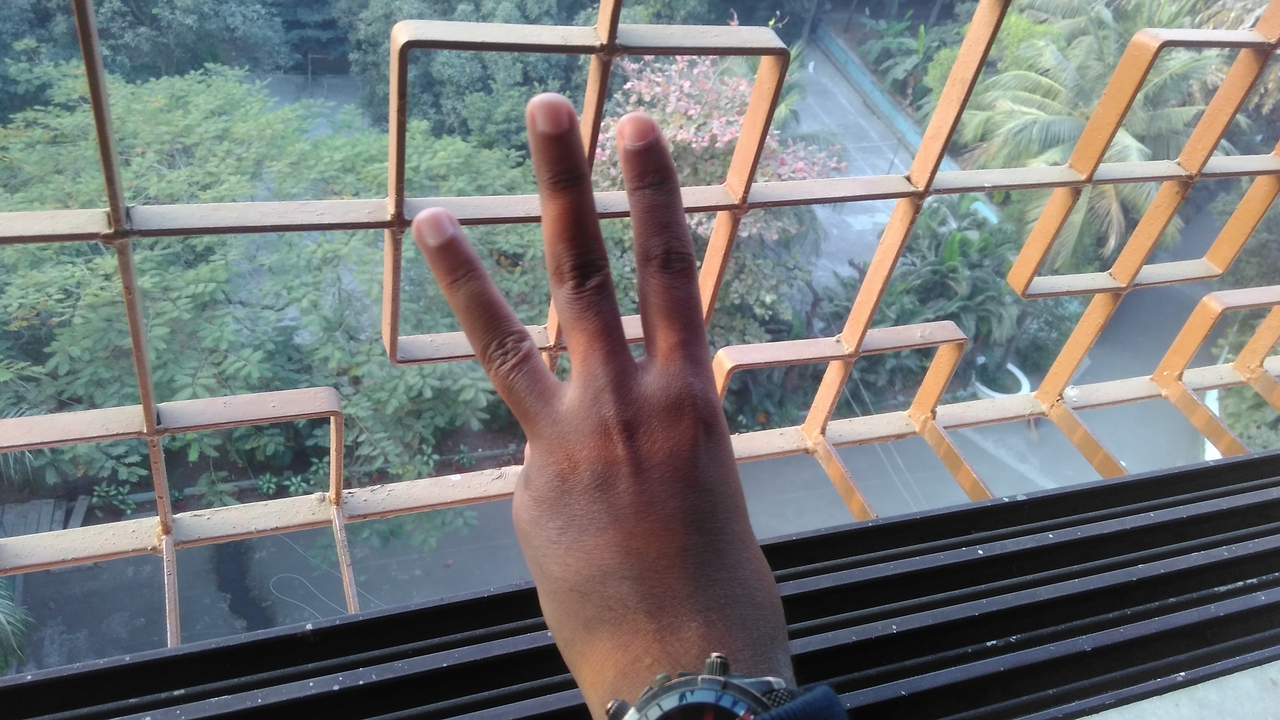fingertip: (516, 90, 580, 150), (612, 108, 672, 166), (404, 198, 462, 254)
